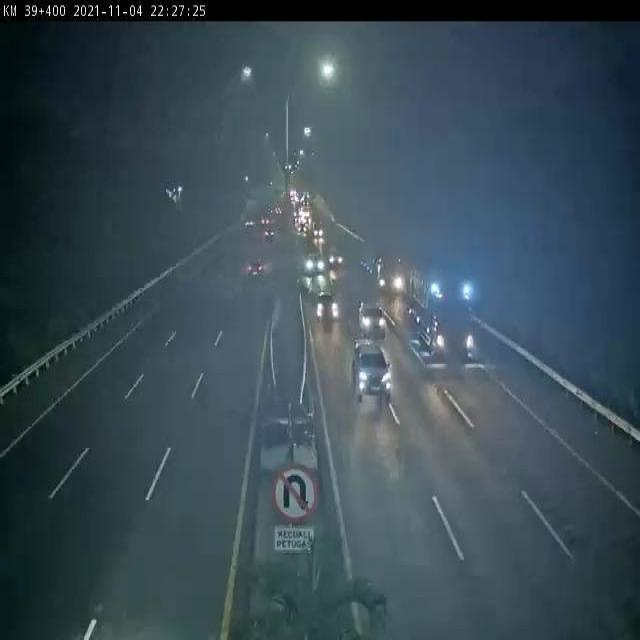car: (350, 338, 391, 398), (358, 299, 389, 332), (312, 288, 341, 323), (244, 257, 265, 280)
mid truck: (306, 251, 325, 277)
truck-l-: (404, 260, 476, 361)
truck-xl-: (357, 244, 403, 296)
